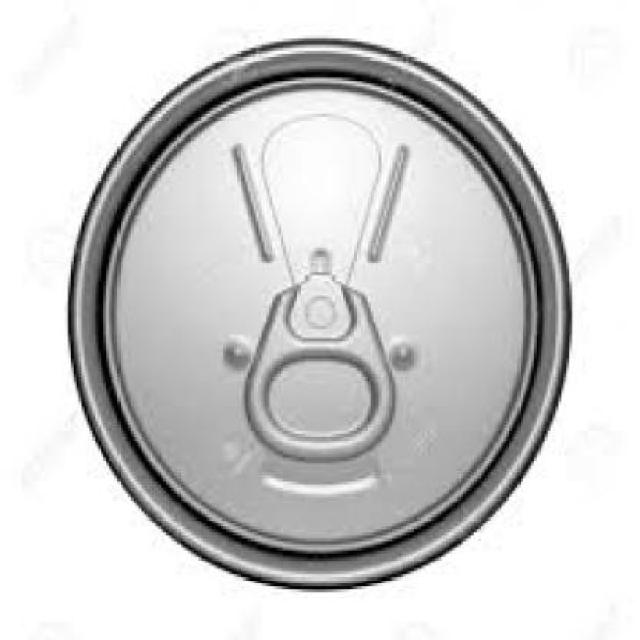METAL: (62, 36, 572, 586), (239, 265, 398, 458)
